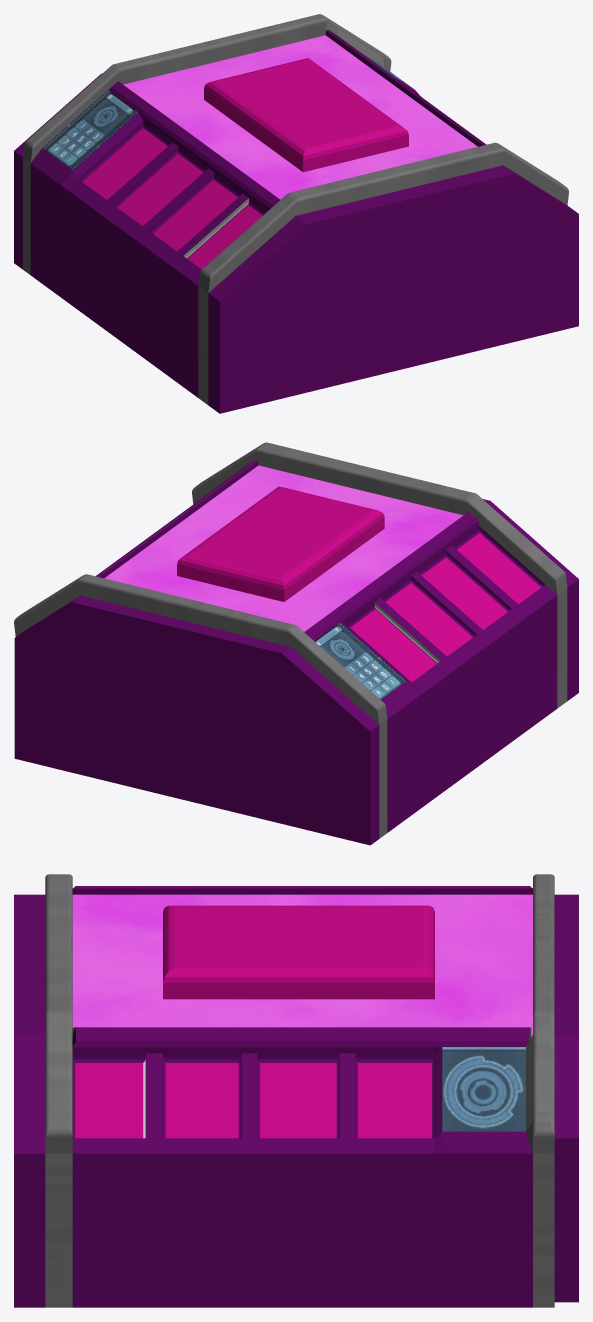
File: LargeBlockJumpDriveCharger_Large.fbx
The picture shows the model from 3 angles, top to bottom: view 1: azimuth 30°, elevation 25°; view 2: azimuth 150°, elevation 25°; view 3: azimuth 270°, elevation 25°; orthographic projection. The views are drawn at different scales.
Parts seen in each view (by area): view 1: Cube; view 2: Cube; view 3: Cube.
Boxes of the visible parts, box(x1,y1,x2,y2) form: Cube: box(14, 14, 578, 413); Cube: box(14, 442, 578, 845); Cube: box(14, 874, 578, 1307).
Size of the model in its own units: 2.52 by 1.25 by 2.49.
